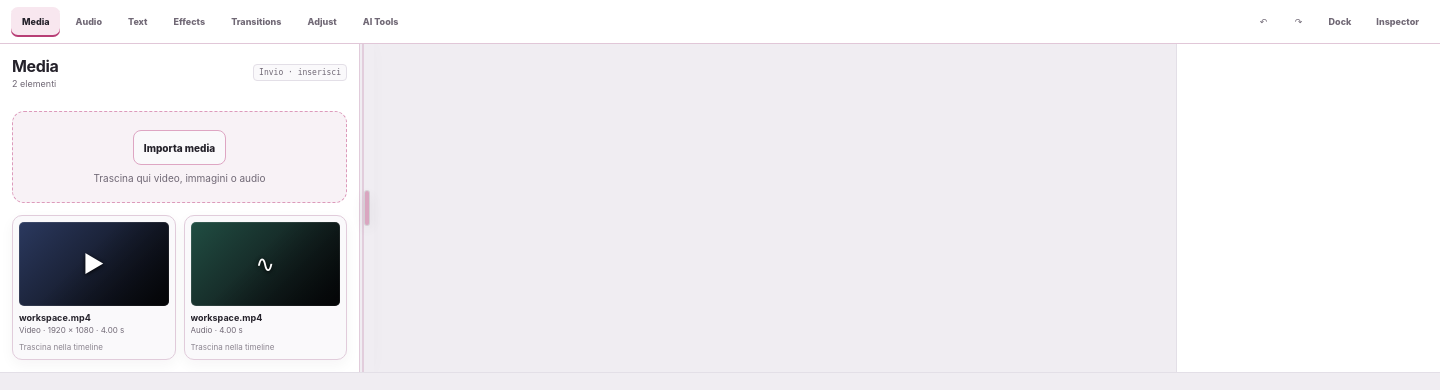
Test: VideoEditorWorkspace · artifact tools › preflights incompatible tool inputs before opening a workflow
Step 1. Click the button "AI Tools" → [381, 22], box [352,6,410,36]
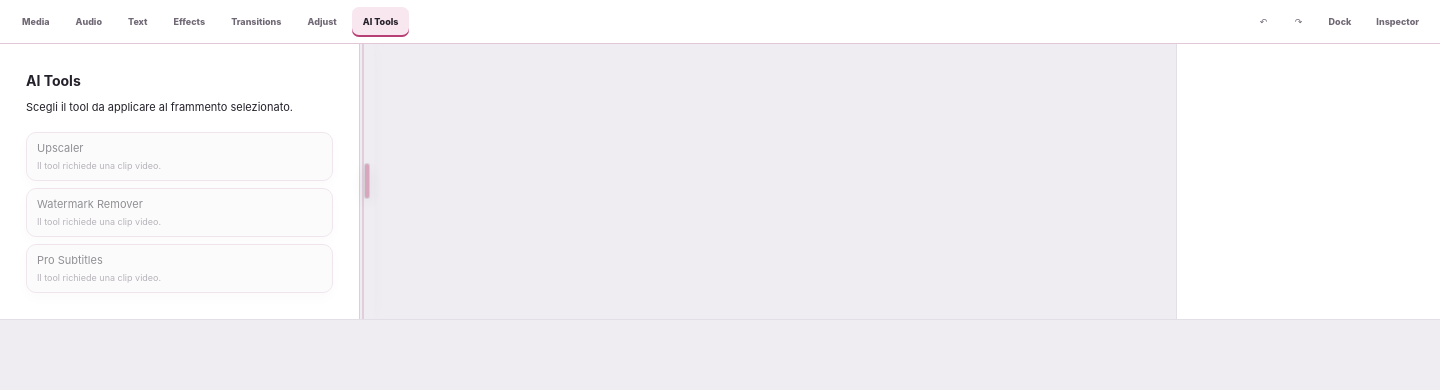
Expected: the button "Upscaler Il tool richiede una clip video." is disabled, [26,132,333,180]
